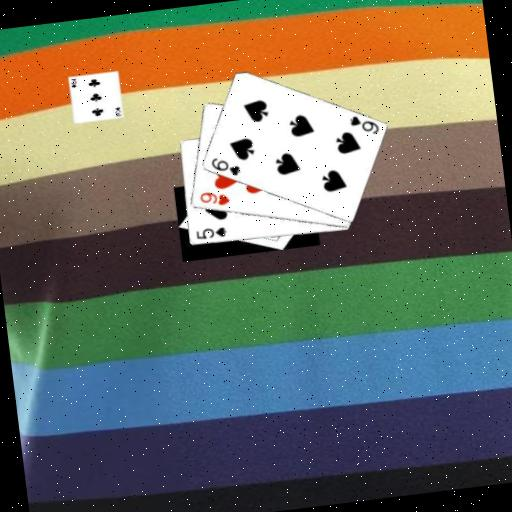5S: (193, 223, 229, 242)
6S: (346, 110, 381, 139), (207, 152, 242, 180)
9H: (196, 186, 232, 210)
